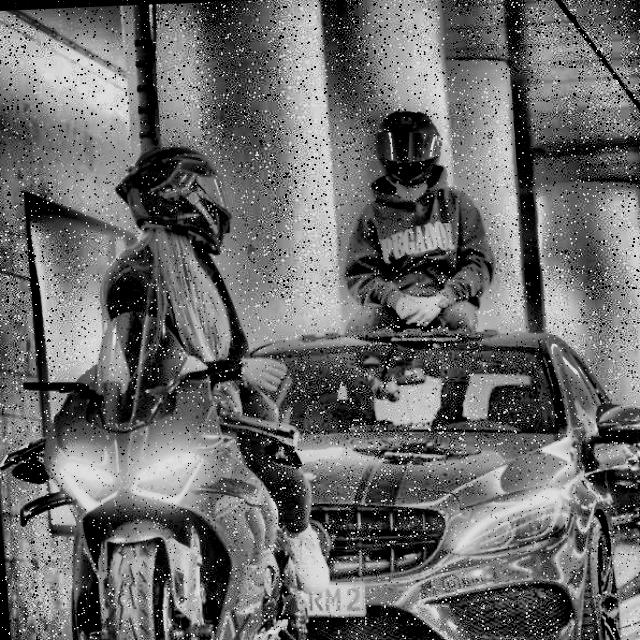Helmet: (103, 136, 235, 258), (365, 103, 445, 187)
